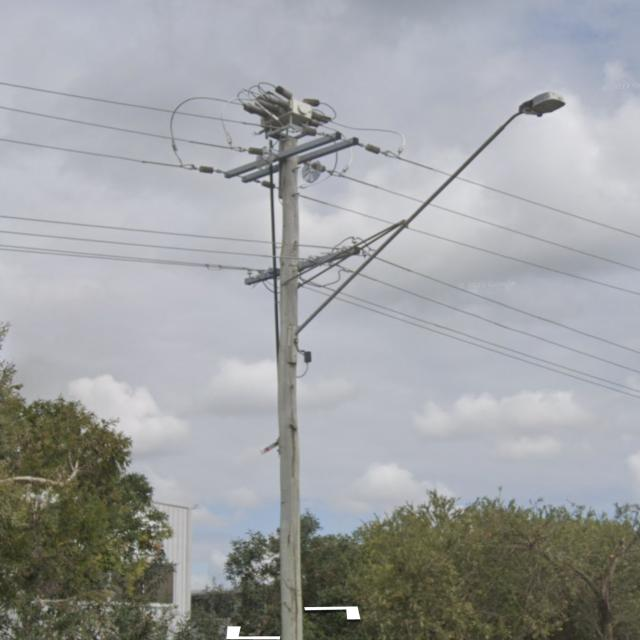HV-switch: (238, 83, 329, 134)
HV-transmission: (199, 130, 382, 190)
crossarm: (225, 131, 342, 178), (241, 137, 359, 183), (245, 245, 363, 289)
streetlight: (292, 91, 567, 337)
timber-pole: (279, 136, 303, 640)
